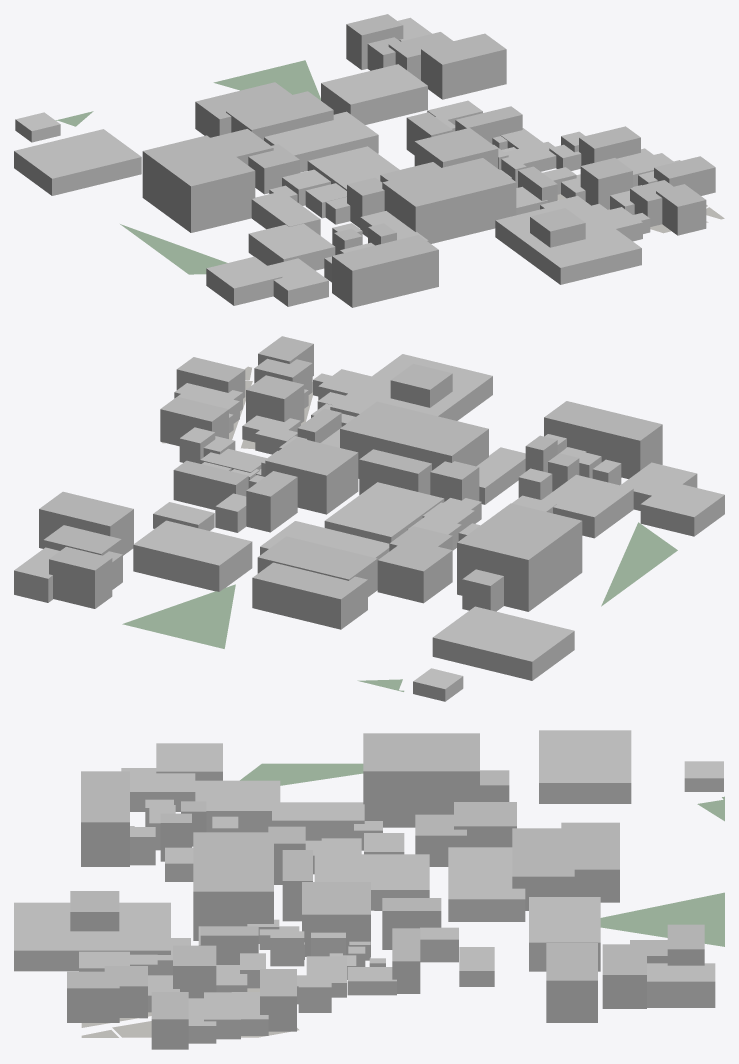
The model's file is 123_95_mid.glb.
3 views of the same model, one above another, from view 1: azimuth 30°, elevation 25°; view 2: azimuth 150°, elevation 25°; view 3: azimuth 270°, elevation 25° (orthographic). The views are drawn at different scales.
Size of the model in its own units: 545 by 50.76 by 552.
